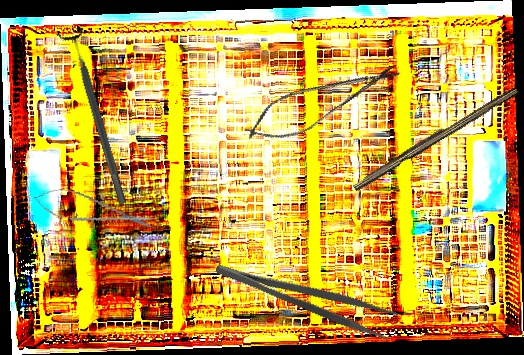Dressing Forceps: (213, 245, 399, 344)
Fixation Ring: (56, 25, 136, 209)
Micro Scissor: (236, 48, 408, 155), (31, 182, 158, 239)
Scalpel Handle: (350, 81, 520, 195)
